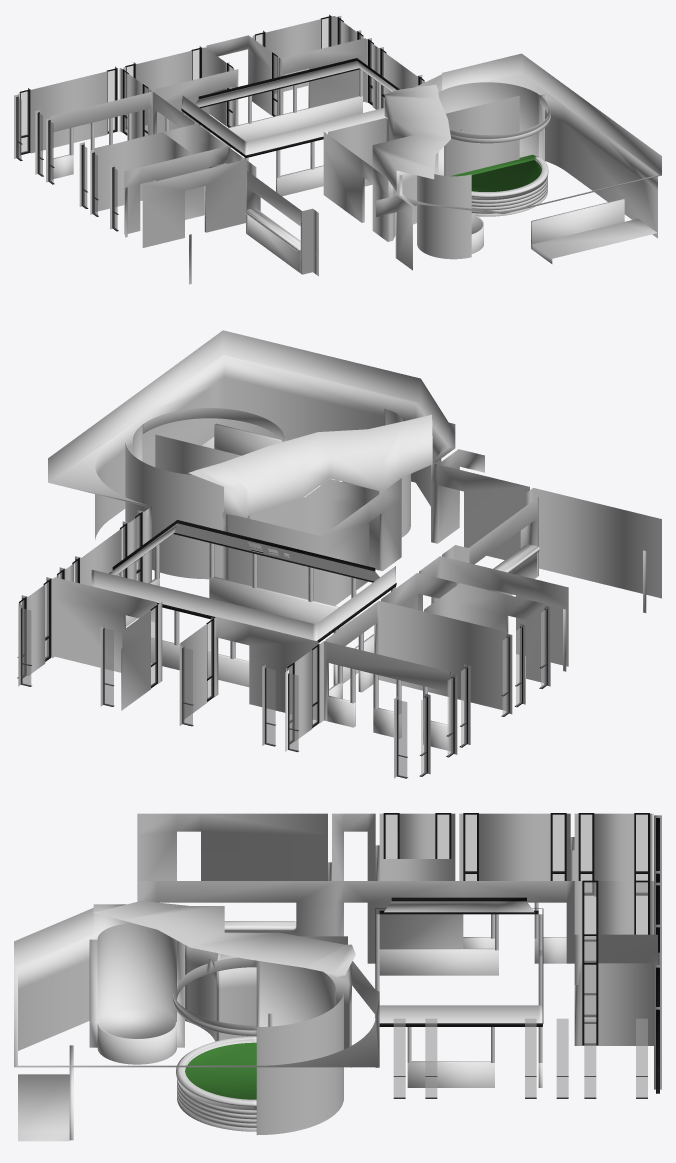
Rendered from Walls.glb.
3 views of the same model, one above another, from view 1: azimuth 30°, elevation 25°; view 2: azimuth 150°, elevation 25°; view 3: azimuth 270°, elevation 25° (orthographic). The views are drawn at different scales.
Parts seen in each view (by area): view 1: Walls; view 2: Walls; view 3: Walls.
Boxes of the visible parts, x1,y1,x2,y2 form: Walls: (14,14,661,284); Walls: (17,330,661,778); Walls: (14,813,661,1141).
Bounding box in the file's own units: 153 × 31.29 × 163.
